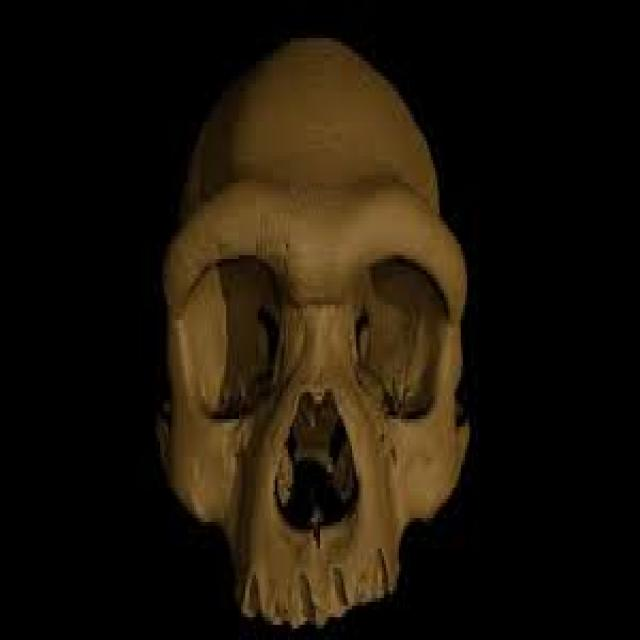skull: (151, 27, 479, 640)
